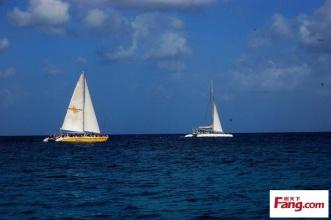fanchuan: (43, 70, 112, 145), (186, 81, 236, 141)
